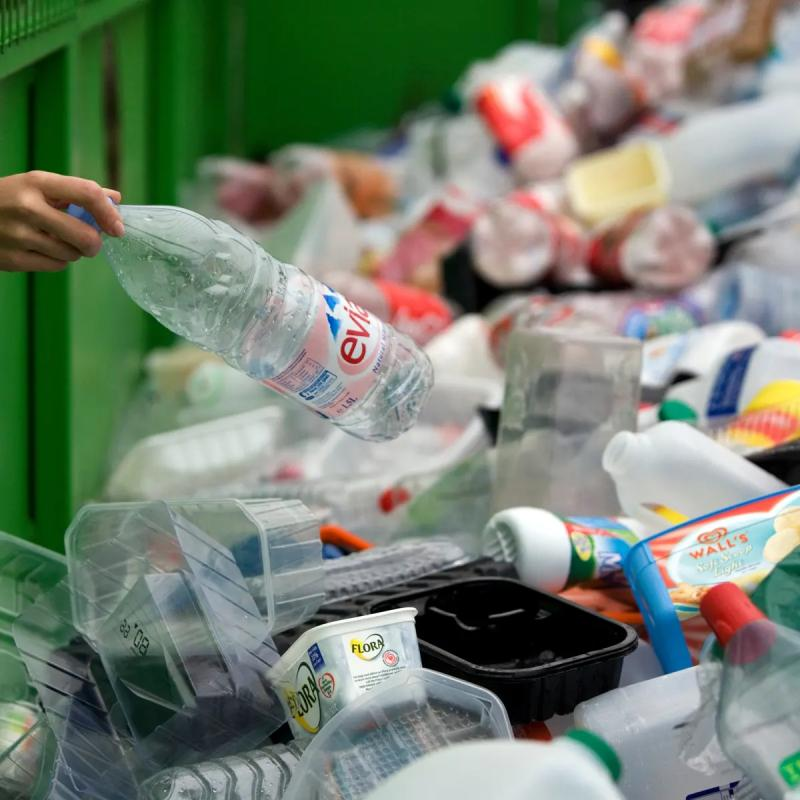botella: (72, 181, 437, 451)
